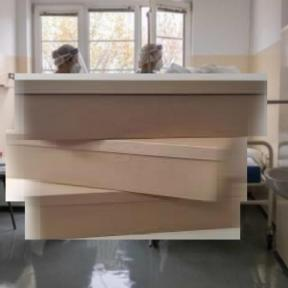box: (1, 128, 252, 204), (10, 72, 272, 138), (22, 174, 244, 241)
